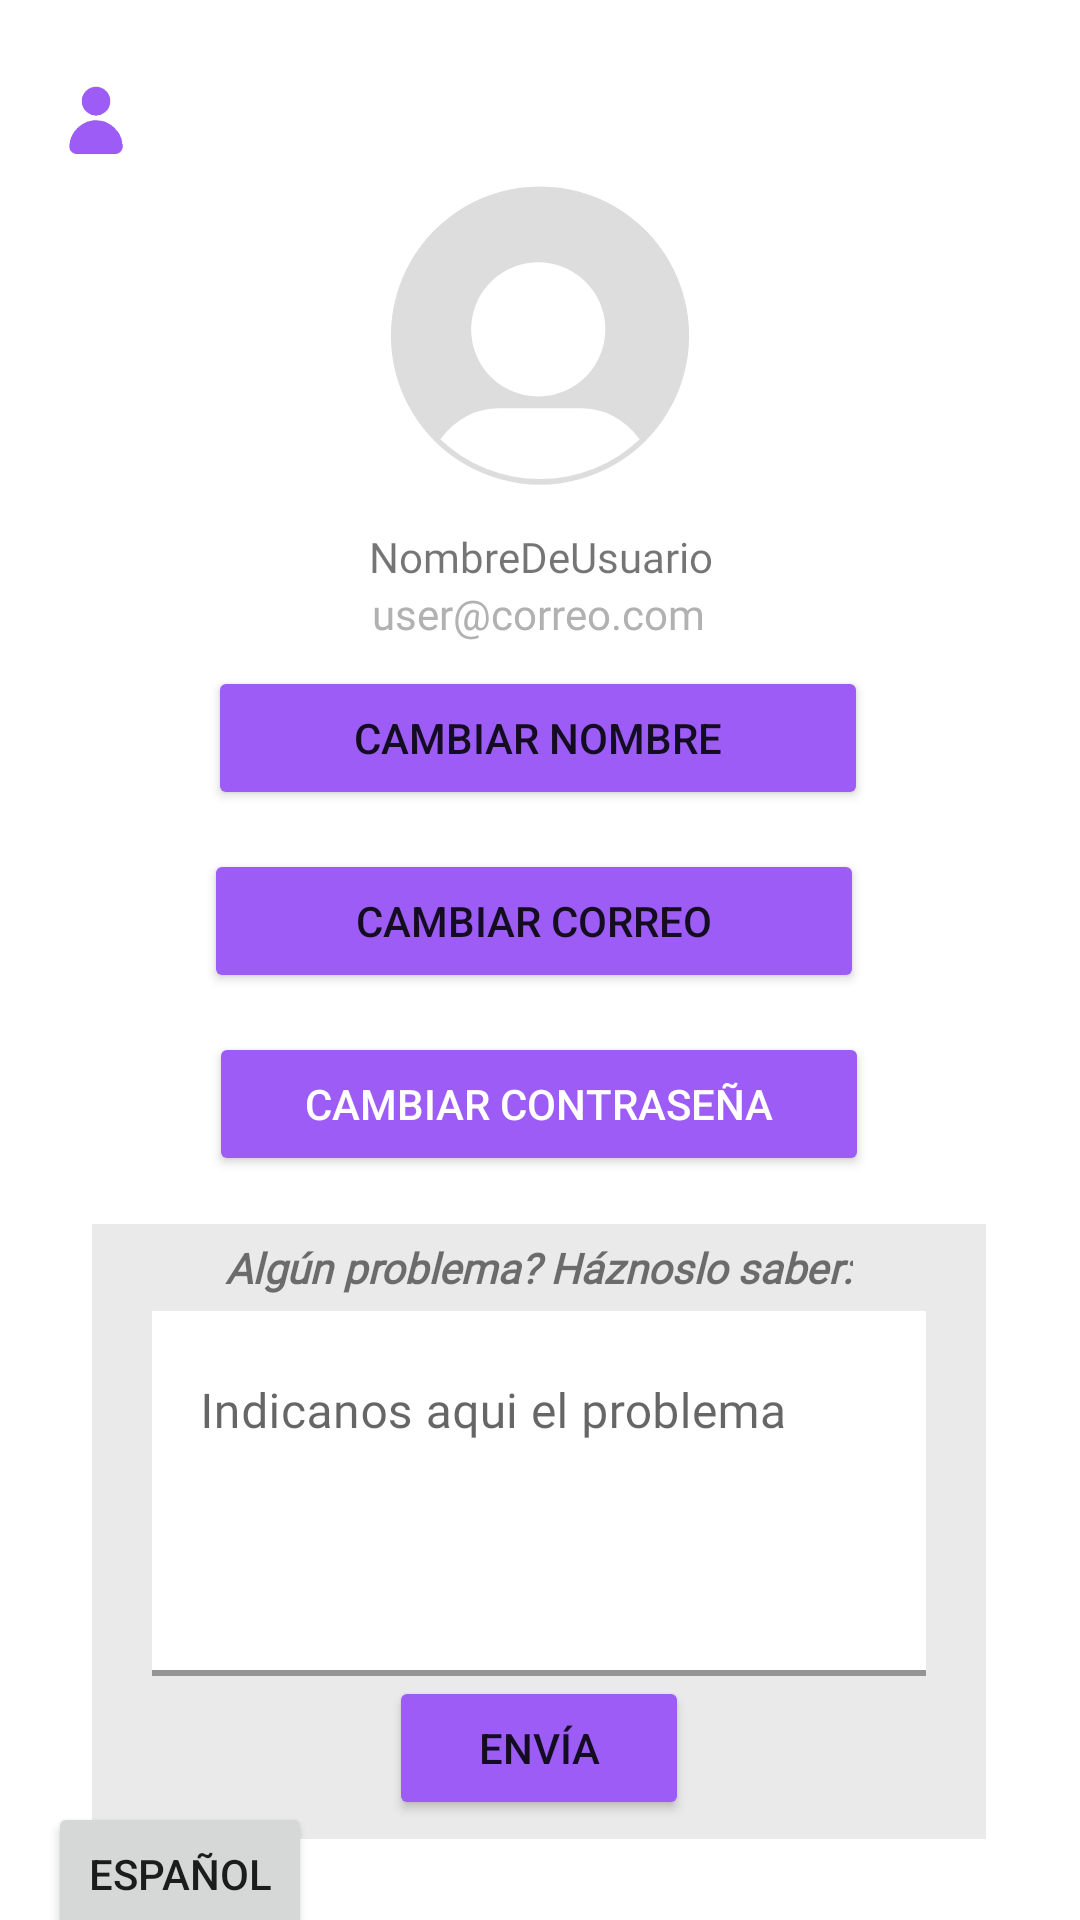

Named icons in this screenshot (1080*1920) and their bounding boxes, (x1, y1, x2, y2):
Icono del perfil, decoración: (69, 86, 123, 154)
